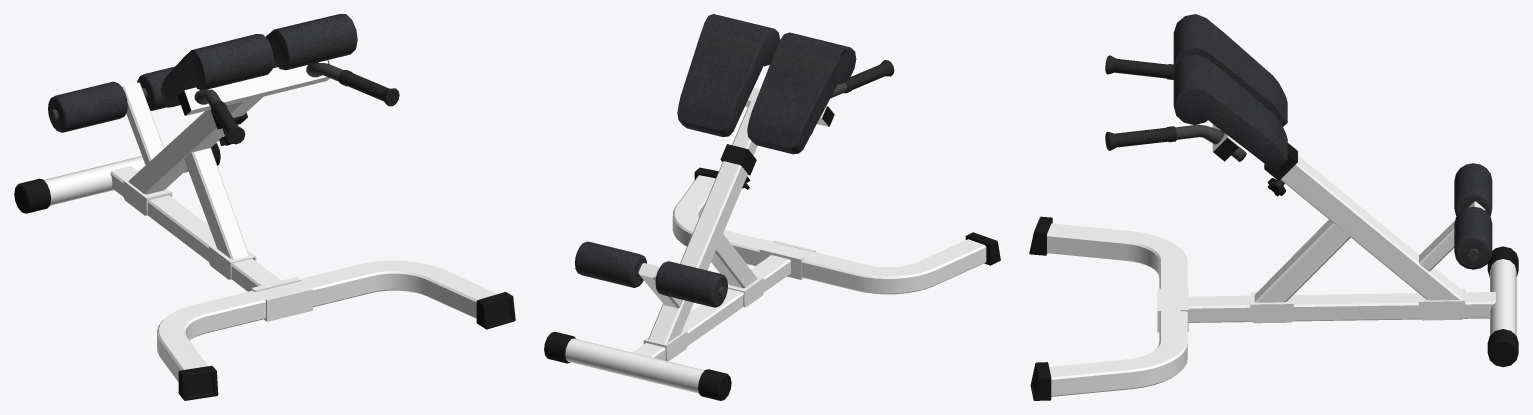
Rendered from Back_Extension.FBX.
3 views of the same model, side by side, from view 1: azimuth 30°, elevation 25°; view 2: azimuth 150°, elevation 25°; view 3: azimuth 270°, elevation 25° (orthographic). The views are drawn at different scales.
Parts seen in each view (by area): view 1: Back_Extension; view 2: Back_Extension; view 3: Back_Extension.
Boxes of the visible parts, x1,y1,x2,y2 form: Back_Extension: (14, 14, 515, 400); Back_Extension: (544, 14, 1000, 400); Back_Extension: (1029, 14, 1518, 400).
Bounding box in the file's own units: 0.9995 × 1.28 × 0.7793.
